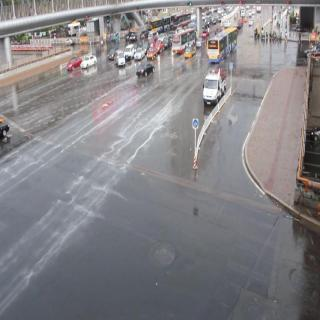BigCar: (204, 23, 239, 62), (172, 23, 201, 58), (144, 17, 166, 38)
Car: (196, 65, 228, 106), (131, 55, 161, 85), (80, 48, 97, 74), (63, 53, 84, 71), (145, 47, 160, 66), (124, 44, 136, 64), (184, 45, 196, 65), (112, 51, 126, 68)
